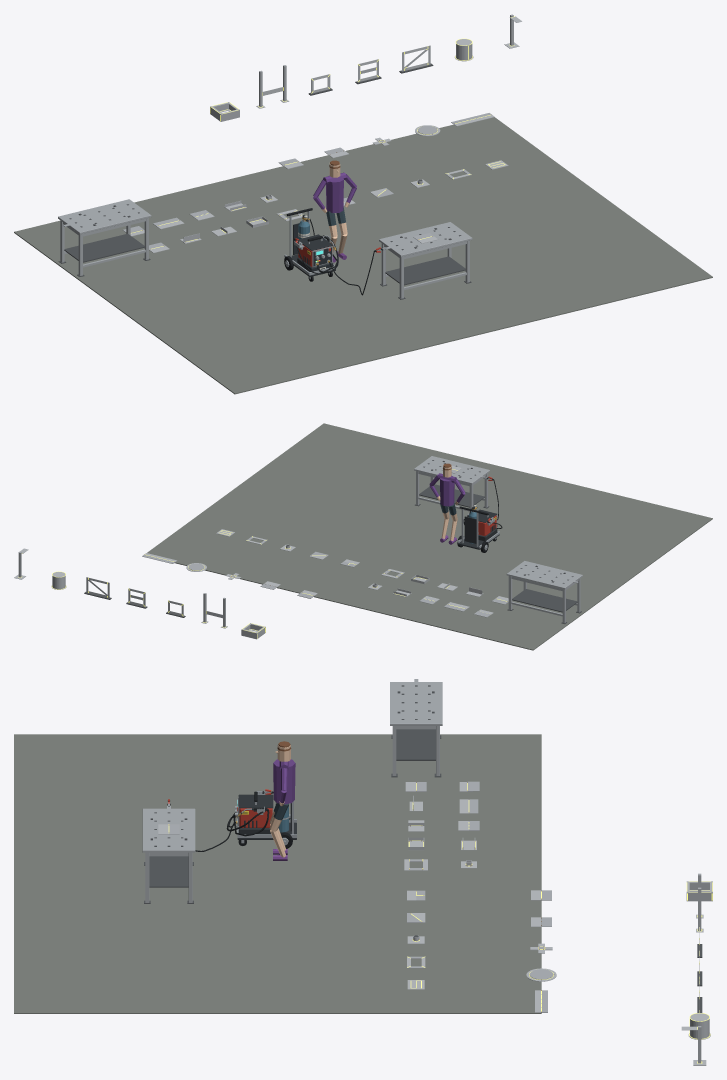
The model's file is Weldingv3.glb.
The picture shows the model from 3 angles, top to bottom: view 1: azimuth 30°, elevation 25°; view 2: azimuth 150°, elevation 25°; view 3: azimuth 270°, elevation 25°; orthographic projection. The views are drawn at different scales.
Visible parts, largest first — view 1: TestFloor, Table_Body, SteelTable, Welder_Body, Welder_Cart; view 2: TestFloor, Table_Body, SteelTable, Welder_Cart, Welder_Body, Person_torso; view 3: TestFloor, Table_Body, SteelTable, Welder_Body, Person_torso.
Part boxes in pixels (x1,y1,x2,y2): TestFloor: (14, 117, 712, 394); Table_Body: (58, 199, 151, 276); SteelTable: (379, 222, 472, 299); Welder_Body: (294, 234, 333, 271); Welder_Cart: (284, 208, 336, 281); TestFloor: (147, 423, 712, 650); Table_Body: (506, 561, 582, 623); SteelTable: (414, 456, 489, 511); Welder_Cart: (457, 506, 499, 549); Welder_Body: (467, 509, 497, 541); Person_torso: (440, 475, 454, 506); TestFloor: (14, 734, 541, 1013); Table_Body: (390, 679, 442, 777); SteelTable: (142, 806, 195, 903); Welder_Body: (235, 791, 273, 834); Person_torso: (273, 759, 295, 804).
Size of what is drawn, in the model's own units: 11.95 by 1.94 by 10.6.
